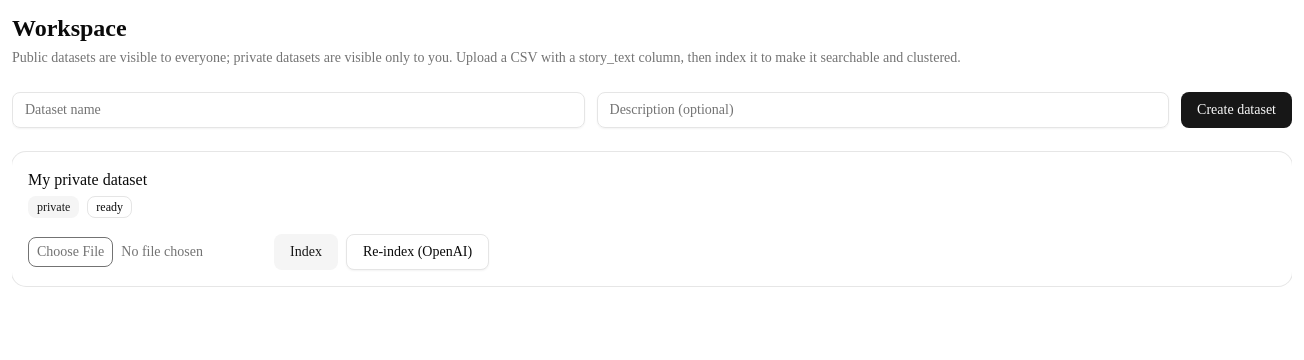
Test: WorkspacePage › shows a warning message after re-indexing falls back to a different provider
Check: the text "My private dataset" is shown, box [28,168,147,192]
Click the button "Re-index (OpenAI)".
click(418, 252)  # box [346,234,489,270]
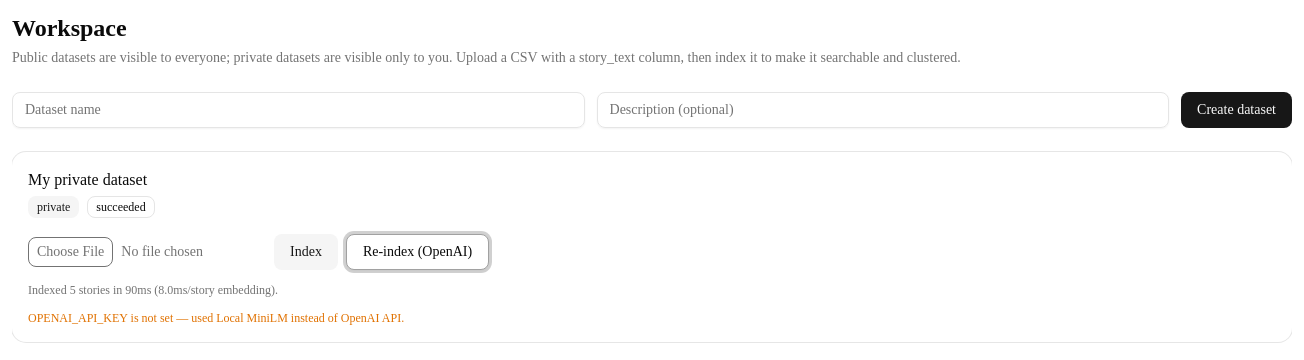
Check: the text "used Local MiniLM instead of OpenAI API" is shown, box [28,311,404,325]
